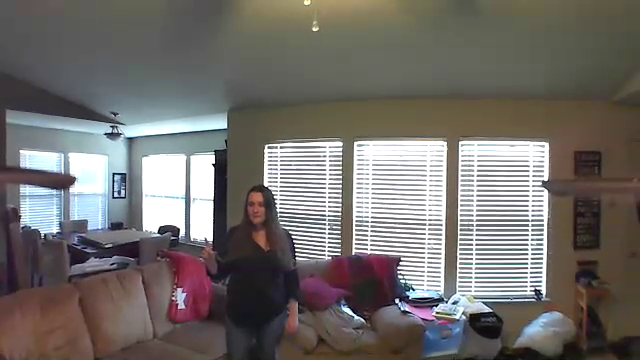up: (199, 237, 217, 261)
